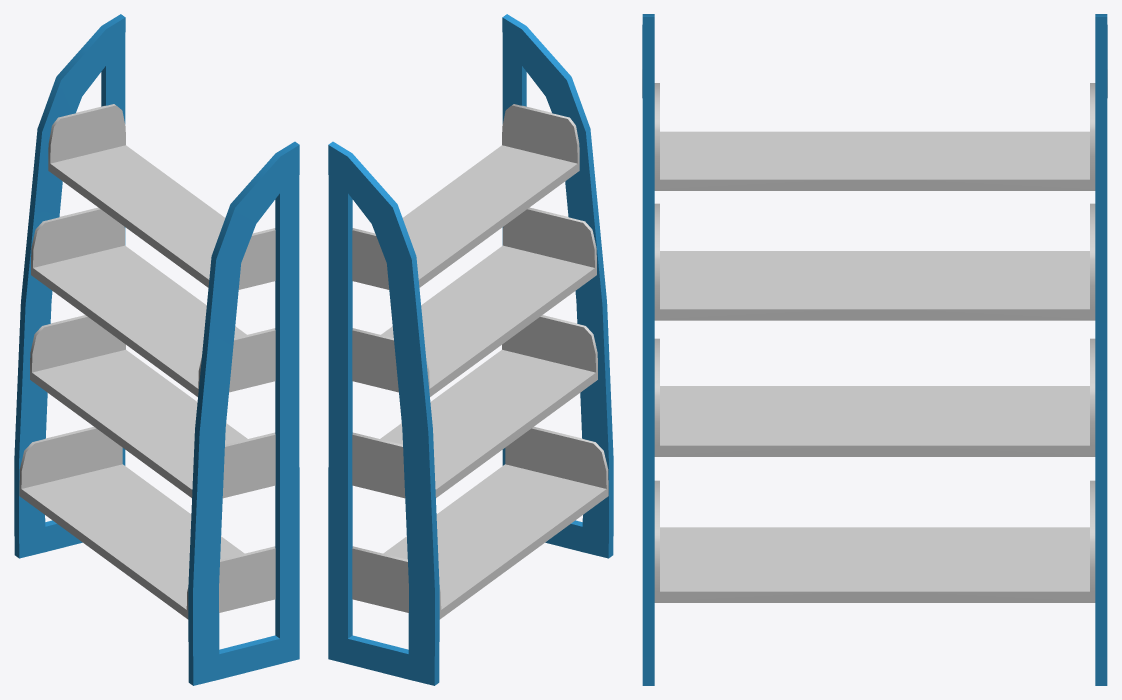
Rendered from Etagères.FBX.
3 renders of one model, left to right at view 1: azimuth 30°, elevation 25°; view 2: azimuth 150°, elevation 25°; view 3: azimuth 270°, elevation 25°, orthographic. The views are drawn at different scales.
Parts seen in each view (by area): view 1: Box001; view 2: Box001; view 3: Box001.
Boxes of the visible parts, x1,y1,x2,y2 form: Box001: (14,14,299,685); Box001: (328,14,613,685); Box001: (642,14,1107,685).
Size of the model in its own units: 15.88 by 73.31 by 46.12.
